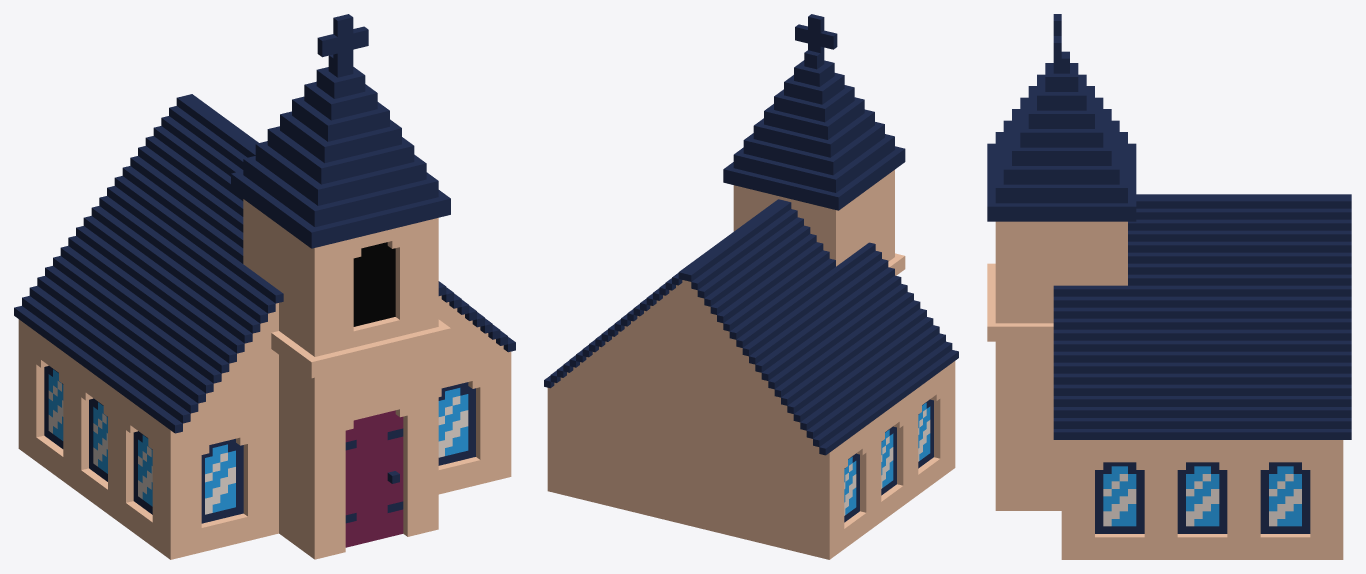
File: church_b.obj
3 renders of one model, left to right at view 1: azimuth 30°, elevation 25°; view 2: azimuth 150°, elevation 25°; view 3: azimuth 270°, elevation 25°, orthographic. The views are drawn at different scales.
Bounding box in the file's own units: 4.4 × 6.2 × 4.4.
1 material, 1 textured.
